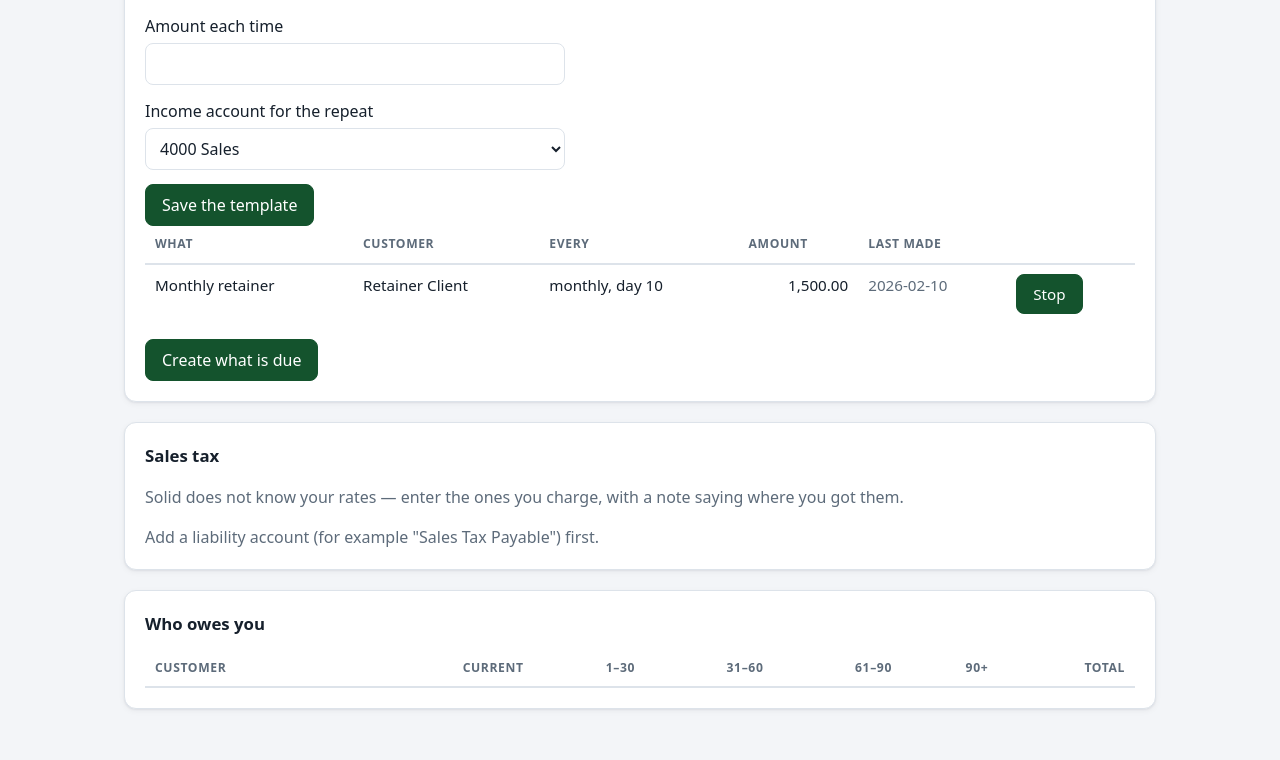
spec 052: invoices that repeat › a skipped month says why
The image size is (1280, 760).
(page scrolled)
Step 1. Click the button "Create what is due" → (232, 360), box [145,339,318,381]
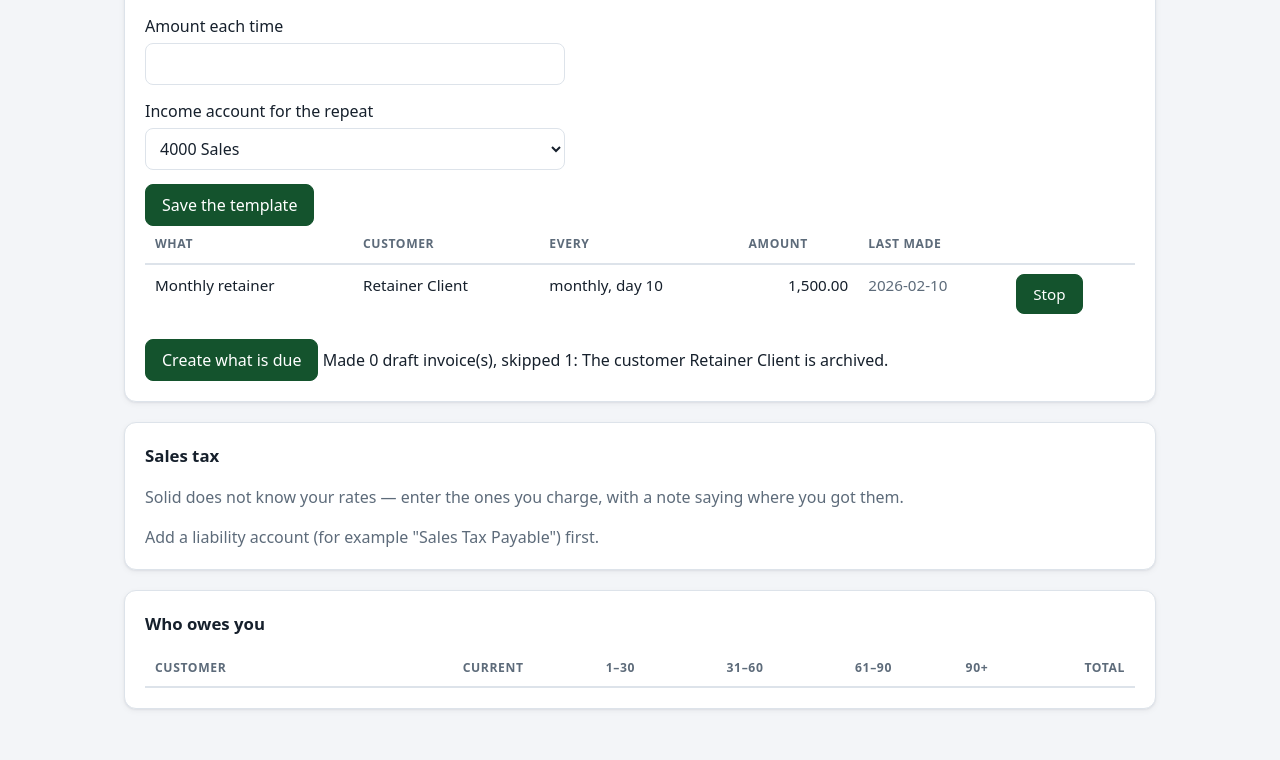
expect the text "Made 0 draft invoice(s), skipped 1: The customer Retainer Client is archived." is shown: met, box [318,349,888,371]
